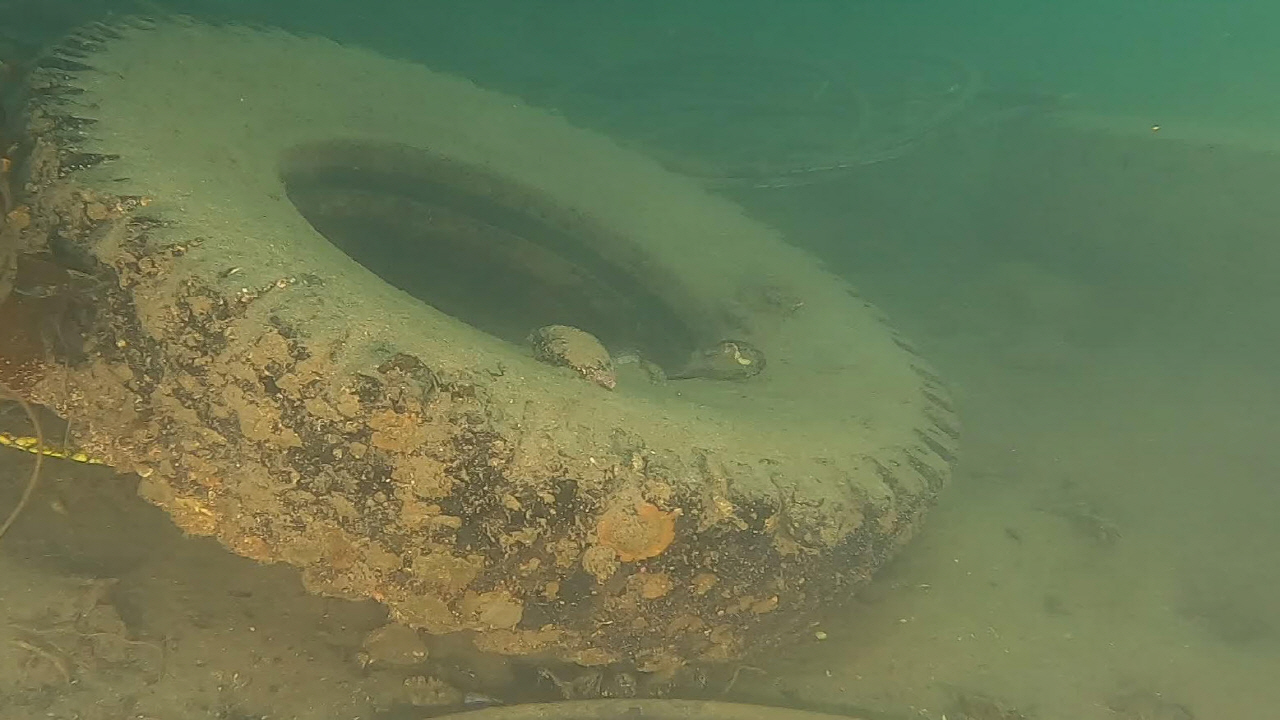tire: (20, 9, 962, 671)
